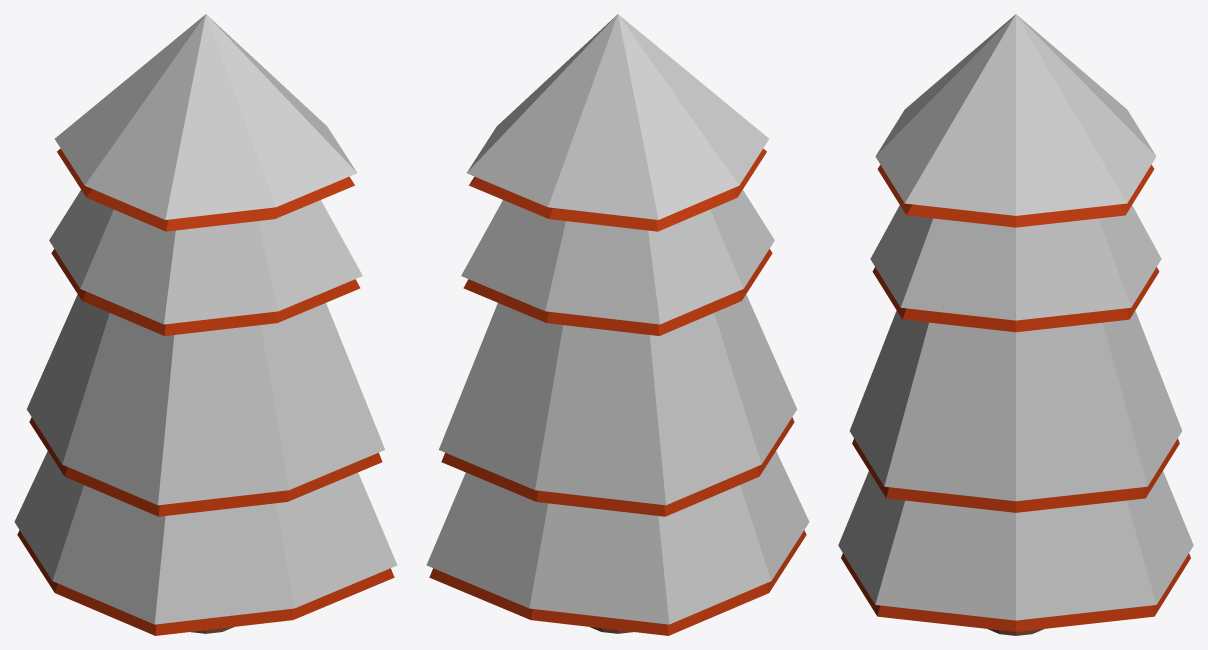
Rendered from Tree_22_winter_red_vc.fbx.
The picture shows the model from 3 angles, left to right: view 1: azimuth 30°, elevation 25°; view 2: azimuth 150°, elevation 25°; view 3: azimuth 270°, elevation 25°; orthographic projection.
Visible parts, largest first — view 1: Tree_22_winter_red_vc; view 2: Tree_22_winter_red_vc; view 3: Tree_22_winter_red_vc.
Boxes of the visible parts, <box> form: Tree_22_winter_red_vc: <box>14,14,397,635</box>; Tree_22_winter_red_vc: <box>426,14,809,635</box>; Tree_22_winter_red_vc: <box>838,14,1193,635</box>.
Bounding box in the file's own units: 84.01 × 159 × 84.01.
